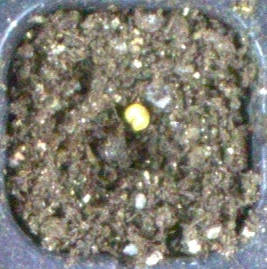chilli seed: (123, 102, 150, 132)
